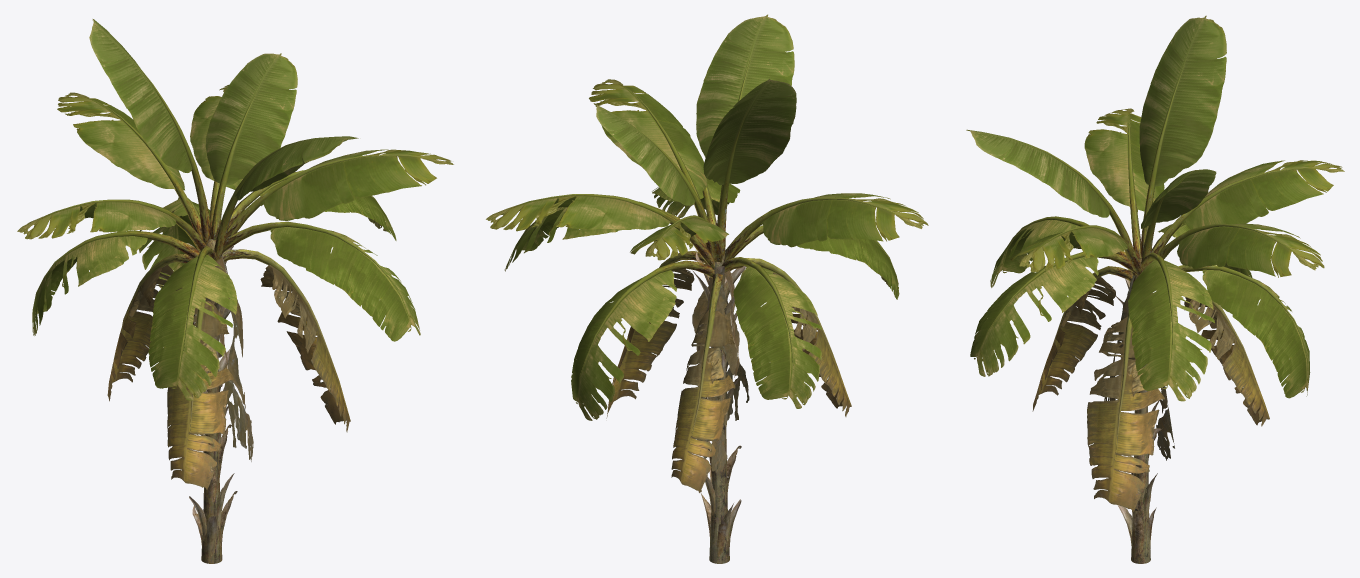
Rendered from BananaTree.fbx.
The picture shows the model from 3 angles, left to right: view 1: azimuth 30°, elevation 25°; view 2: azimuth 150°, elevation 25°; view 3: azimuth 270°, elevation 25°; orthographic projection. The views are drawn at different scales.
Visible parts, largest first — view 1: banana_plant_1, banana_plant_0; view 2: banana_plant_1, banana_plant_0; view 3: banana_plant_1, banana_plant_0.
Boxes of the visible parts, box(x1,y1,x2,y2) form: banana_plant_1: box(17, 19, 453, 558); banana_plant_0: box(38, 54, 404, 563); banana_plant_1: box(486, 14, 928, 557); banana_plant_0: box(529, 49, 887, 563); banana_plant_1: box(966, 15, 1344, 554); banana_plant_0: box(992, 59, 1307, 563).
Bounding box in the file's own units: 264 × 337 × 233.
Materials: 1 (1 with a texture image).
